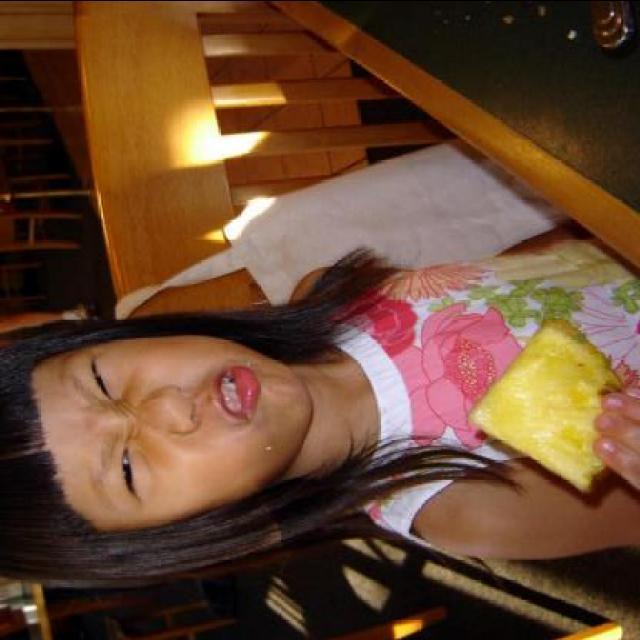Pineapple: (459, 316, 630, 494)
